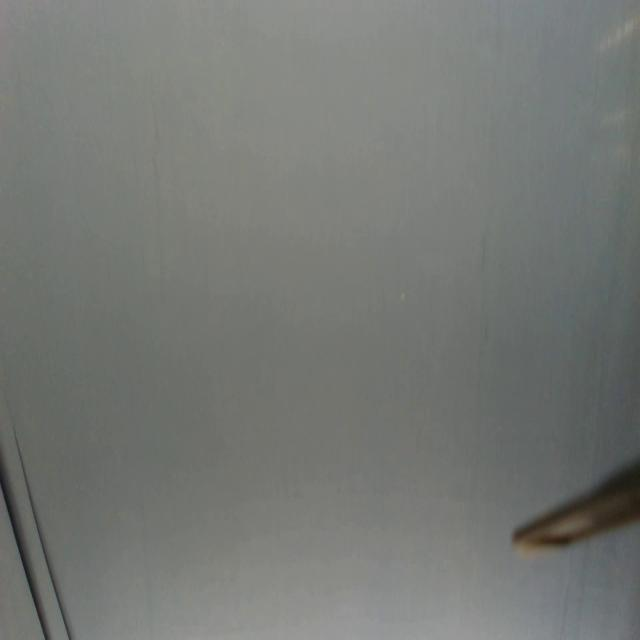crease: (0, 420, 71, 640)
hole: (402, 288, 407, 306)
